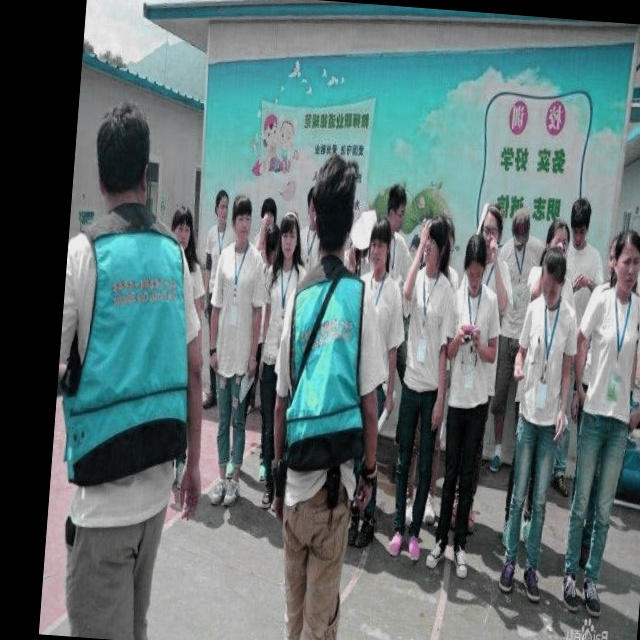Sin_Casco_Mascarrilla: (90, 95, 154, 219), (308, 153, 359, 259), (612, 228, 640, 295)
